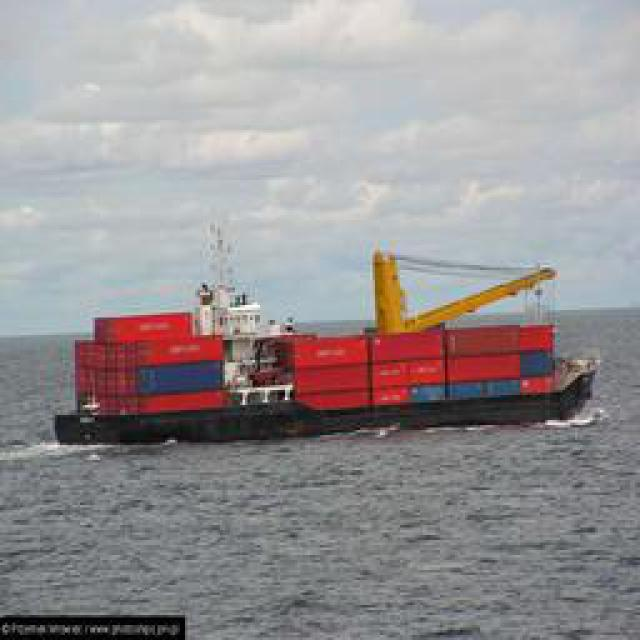Ship: (72, 256, 600, 441)
